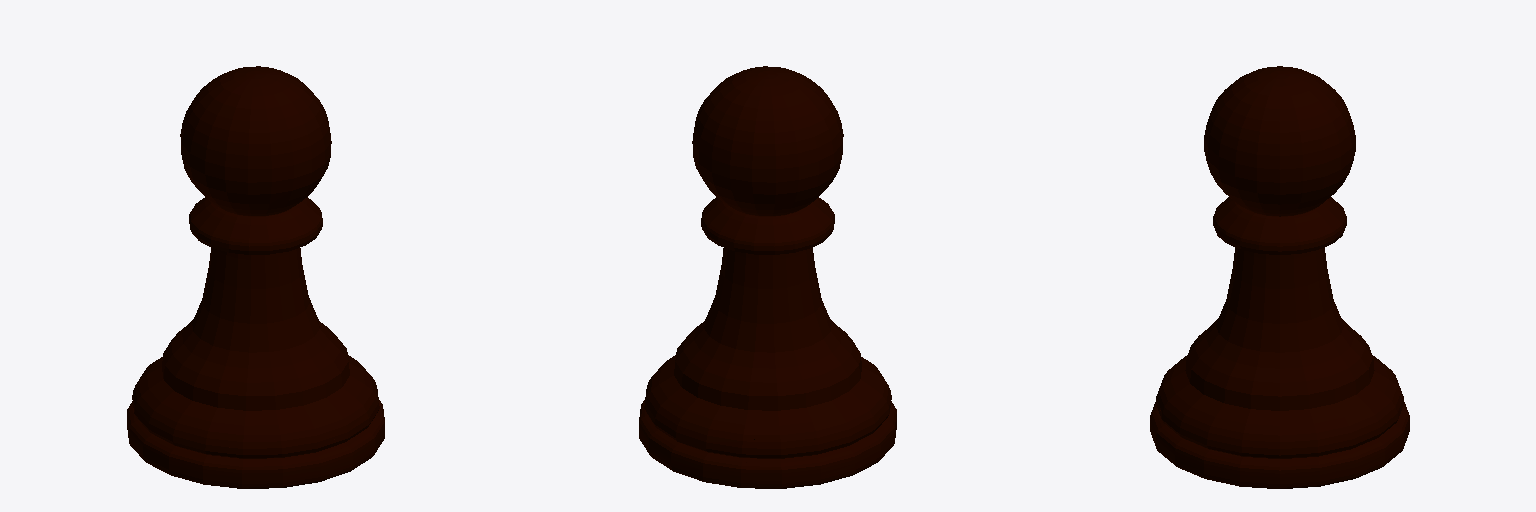
Rendered from pawn_2.obj.
3 views of the same model, side by side, from view 1: azimuth 30°, elevation 25°; view 2: azimuth 150°, elevation 25°; view 3: azimuth 270°, elevation 25° (orthographic).
Parts seen in each view (by area): view 1: PEDONE12; view 2: PEDONE12; view 3: PEDONE12.
Boxes of the visible parts, <box> form: PEDONE12: <box>127,66,384,488</box>; PEDONE12: <box>639,66,896,488</box>; PEDONE12: <box>1150,66,1409,488</box>.
Bounding box in the file's own units: 68.16 × 105 × 68.16.